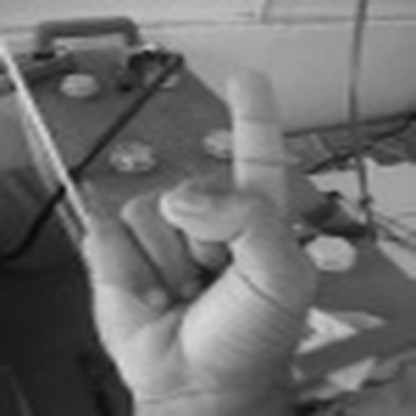d: (68, 56, 303, 414)
